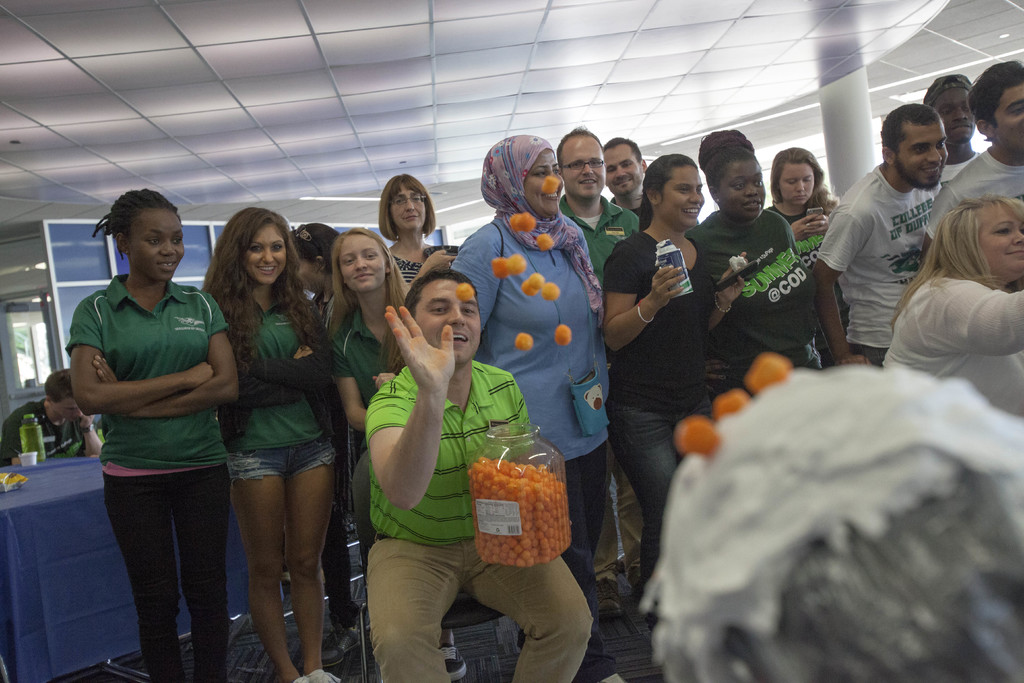Human_hand: (386, 304, 456, 390), (632, 250, 707, 328), (717, 249, 746, 302), (792, 211, 818, 243), (91, 354, 118, 383), (423, 249, 457, 272), (188, 359, 213, 386), (804, 211, 827, 235), (836, 349, 868, 366), (373, 373, 396, 390), (294, 344, 314, 359), (80, 413, 97, 425), (811, 336, 820, 353), (572, 518, 576, 529)
